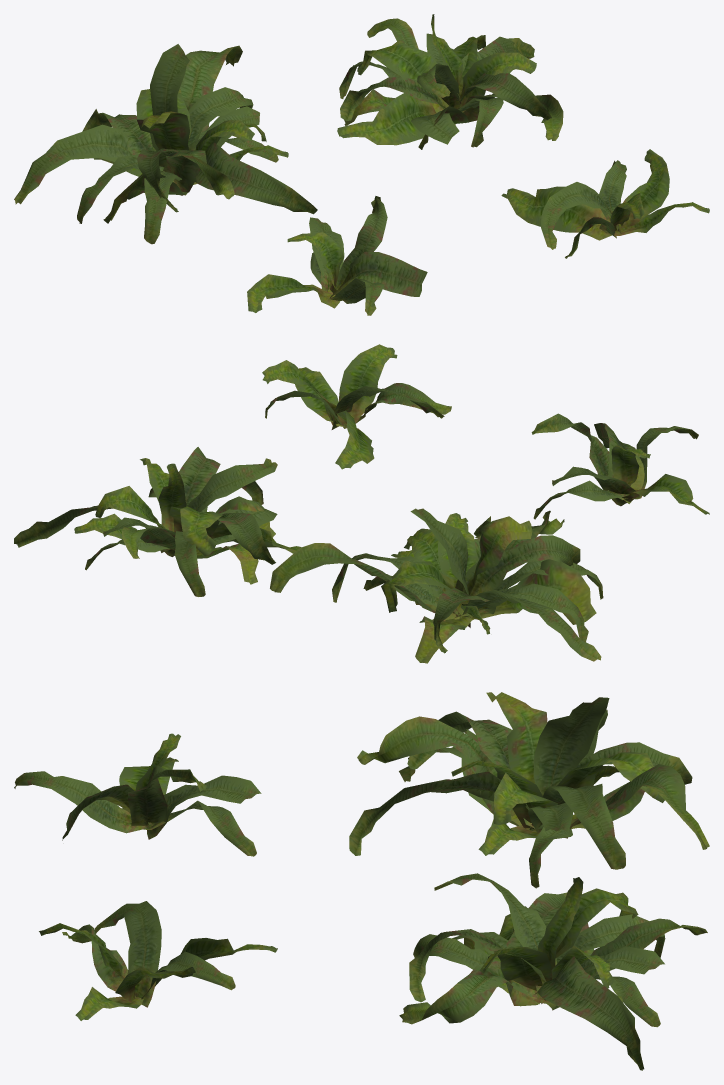
Rendered from fern_02.glb.
3 views of the same model, one above another, from view 1: azimuth 30°, elevation 25°; view 2: azimuth 150°, elevation 25°; view 3: azimuth 270°, elevation 25° (orthographic). The views are drawn at different scales.
Visible parts, largest first — view 1: fern_02_b, fern_02_c, fern_02_d, fern_02_a; view 2: fern_02_b, fern_02_c, fern_02_d, fern_02_a; view 3: fern_02_b, fern_02_c, fern_02_a, fern_02_d.
Boxes of the visible parts, box(x1,y1,x2,y2) form: fern_02_b: box(14, 44, 317, 244); fern_02_c: box(337, 14, 563, 149); fern_02_d: box(501, 149, 709, 258); fern_02_a: box(247, 196, 427, 315); fern_02_b: box(270, 508, 603, 663); fern_02_c: box(14, 447, 301, 596); fern_02_d: box(262, 344, 451, 469); fern_02_a: box(531, 413, 709, 519); fern_02_b: box(349, 692, 709, 888); fern_02_c: box(399, 873, 707, 1070); fern_02_a: box(14, 733, 261, 856); fern_02_d: box(39, 901, 277, 1020).
Bounding box in the file's own units: 1.97 × 0.4277 × 1.72.
Materials: 1 (1 with a texture image).
